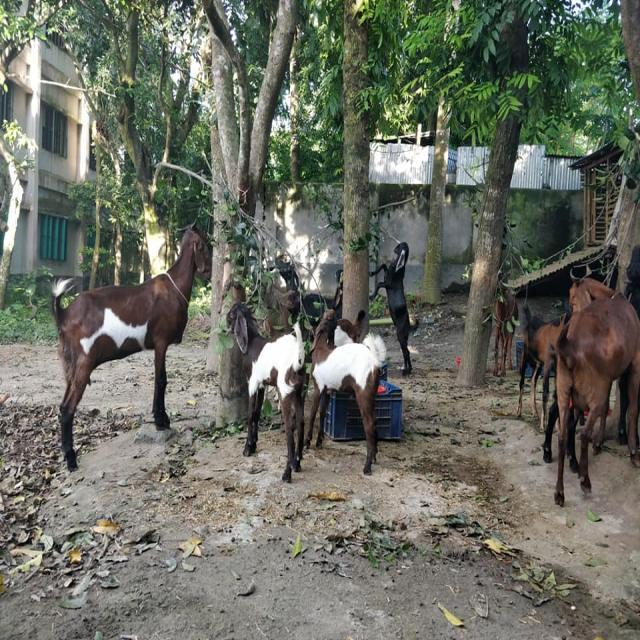Goat: (50, 219, 212, 471), (551, 291, 639, 506), (226, 300, 308, 483), (304, 307, 386, 475), (368, 240, 419, 375), (516, 303, 570, 430), (491, 279, 518, 376)
